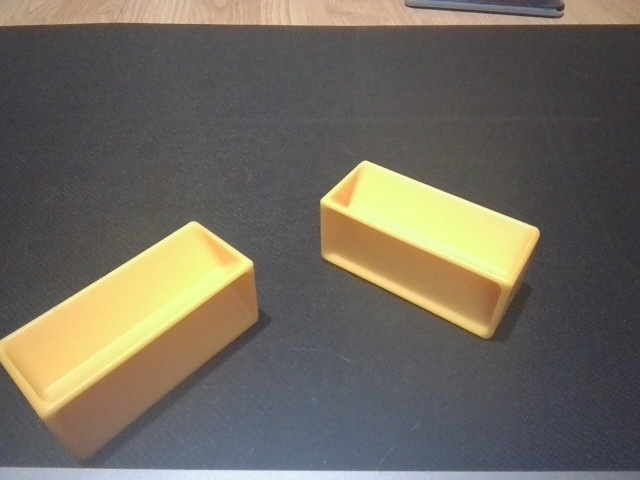YellowSample: (1, 219, 261, 462), (316, 156, 543, 344)
